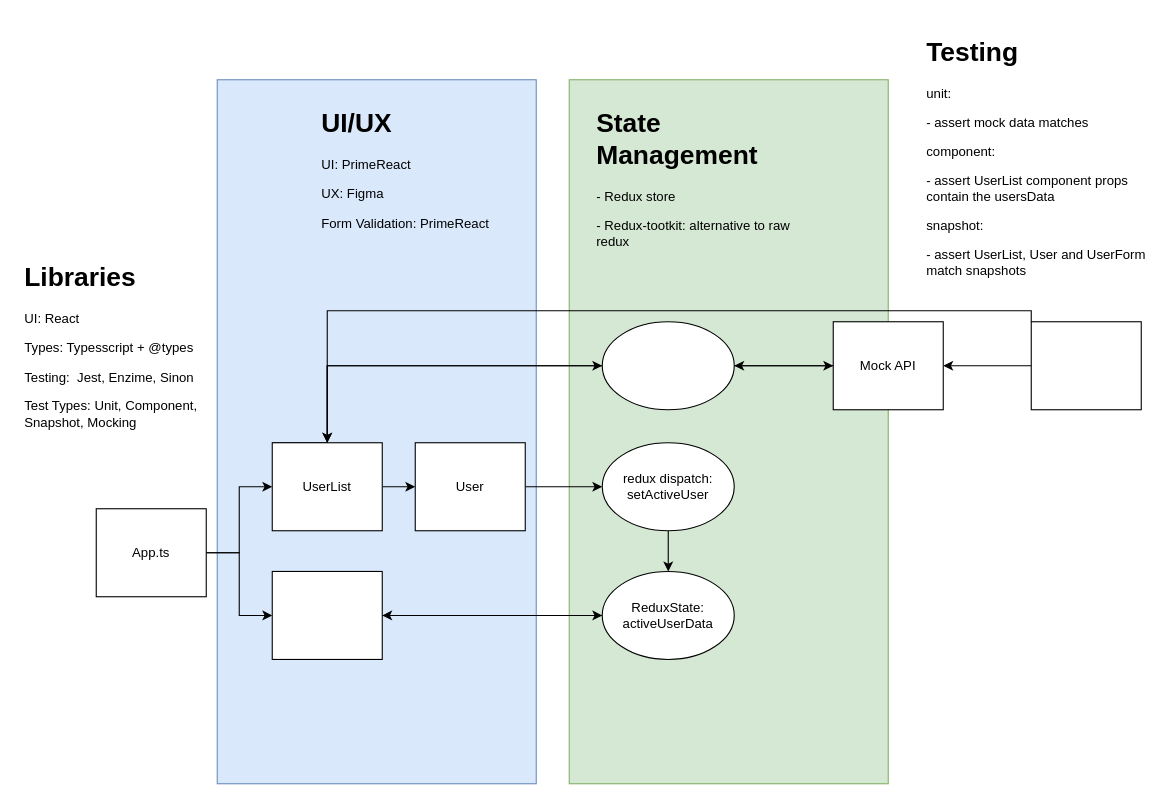
Some shapes in this 1170 by 803 pixel diagram are drawn without their labels. Here are the shapes that lost their labels. From the top down, the centre of each, then its label:
At point 667,365: "redux dispatch: getUsersData".
At point 1085,365: "*.spec.ts".
At point 326,614: "UsersForm".
